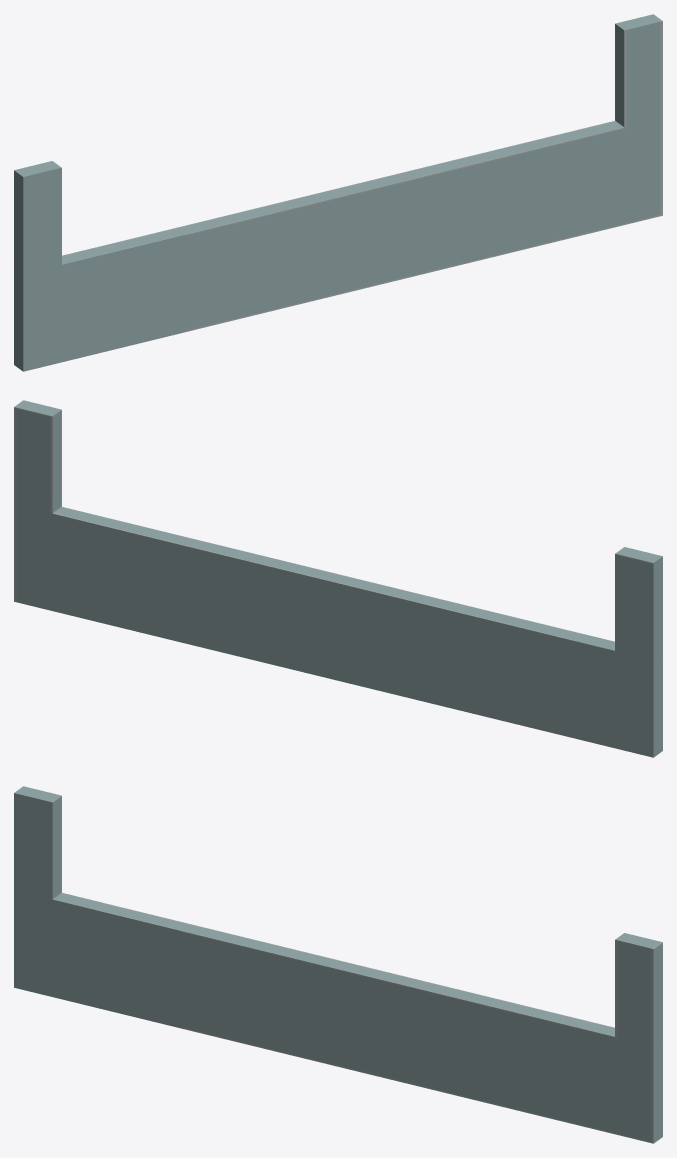
Rendered from glass_frame.fbx.
3 views of the same model, one above another, from view 1: azimuth 30°, elevation 25°; view 2: azimuth 150°, elevation 25°; view 3: azimuth 330°, elevation 25° (orthographic).
Visible parts, largest first — view 1: glass_frame1; view 2: glass_frame1; view 3: glass_frame1.
Part boxes in pixels (x1=…): glass_frame1: x1=14, y1=14, x2=662, y2=371; glass_frame1: x1=14, y1=400, x2=662, y2=757; glass_frame1: x1=14, y1=786, x2=662, y2=1143.
Size of the model in its own units: 205 by 59.74 by 5.21.
